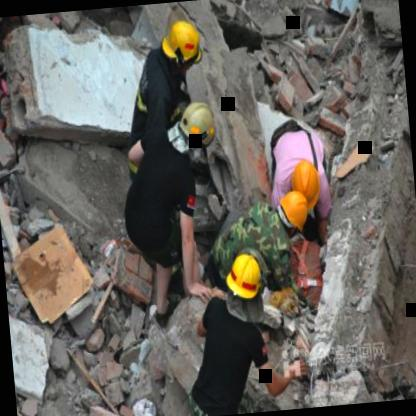helmet: (160, 16, 208, 80), (288, 155, 330, 214), (175, 96, 217, 154), (225, 249, 266, 308), (276, 186, 310, 233)
